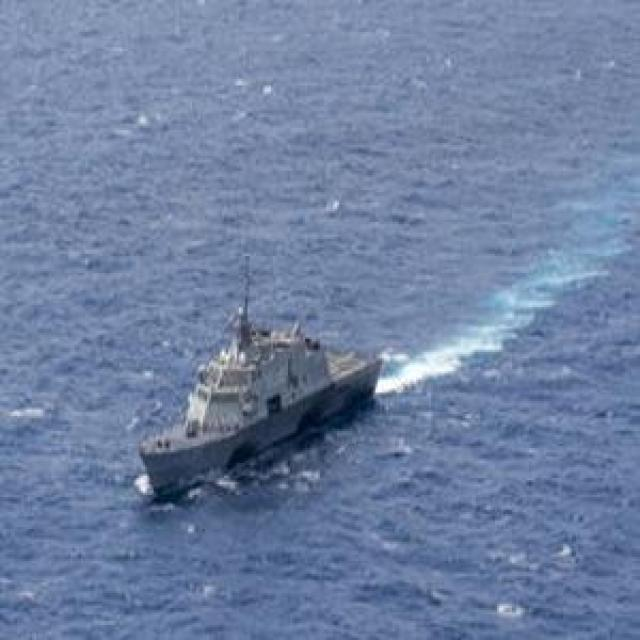navalvessels: (130, 292, 370, 489)
